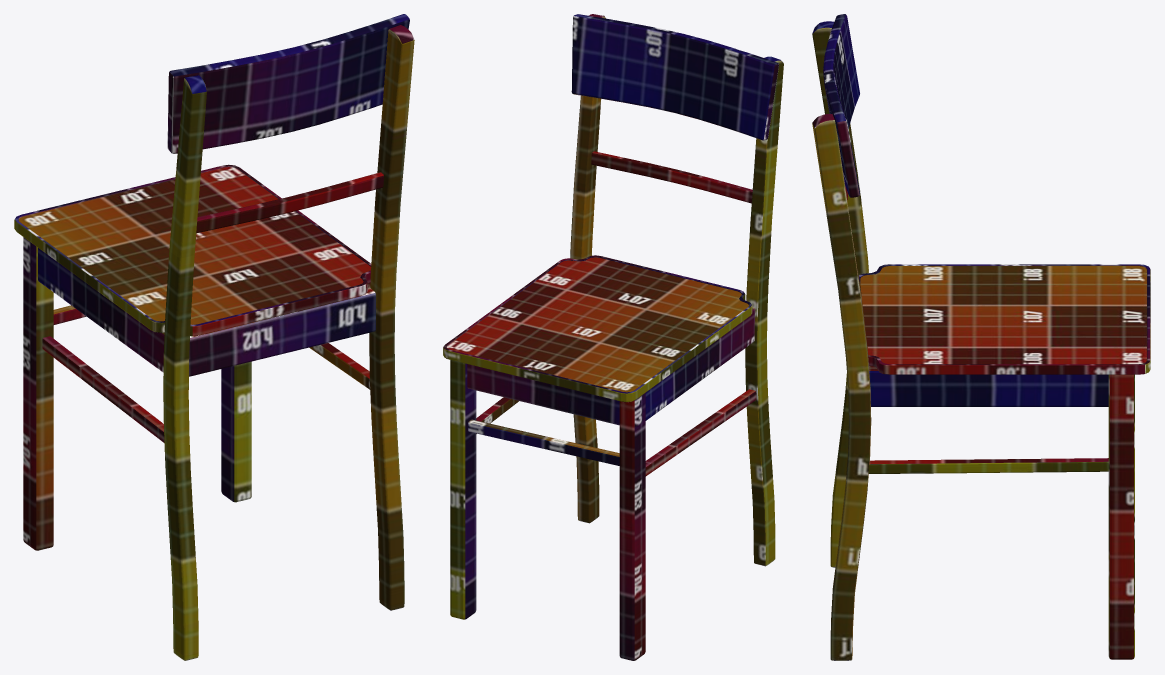
File: zs_CHAIR_UNWRAPPED.fbx
3 views of the same model, side by side, from view 1: azimuth 30°, elevation 25°; view 2: azimuth 150°, elevation 25°; view 3: azimuth 270°, elevation 25° (orthographic). The views are drawn at different scales.
Visible parts, largest first — view 1: CHAIR; view 2: CHAIR; view 3: CHAIR.
Part boxes in pixels (<box>): CHAIR: <box>14,14,414,660</box>; CHAIR: <box>443,14,783,660</box>; CHAIR: <box>812,14,1150,660</box>.
Size of the model in its own units: 1.48 by 3.5 by 1.97.
